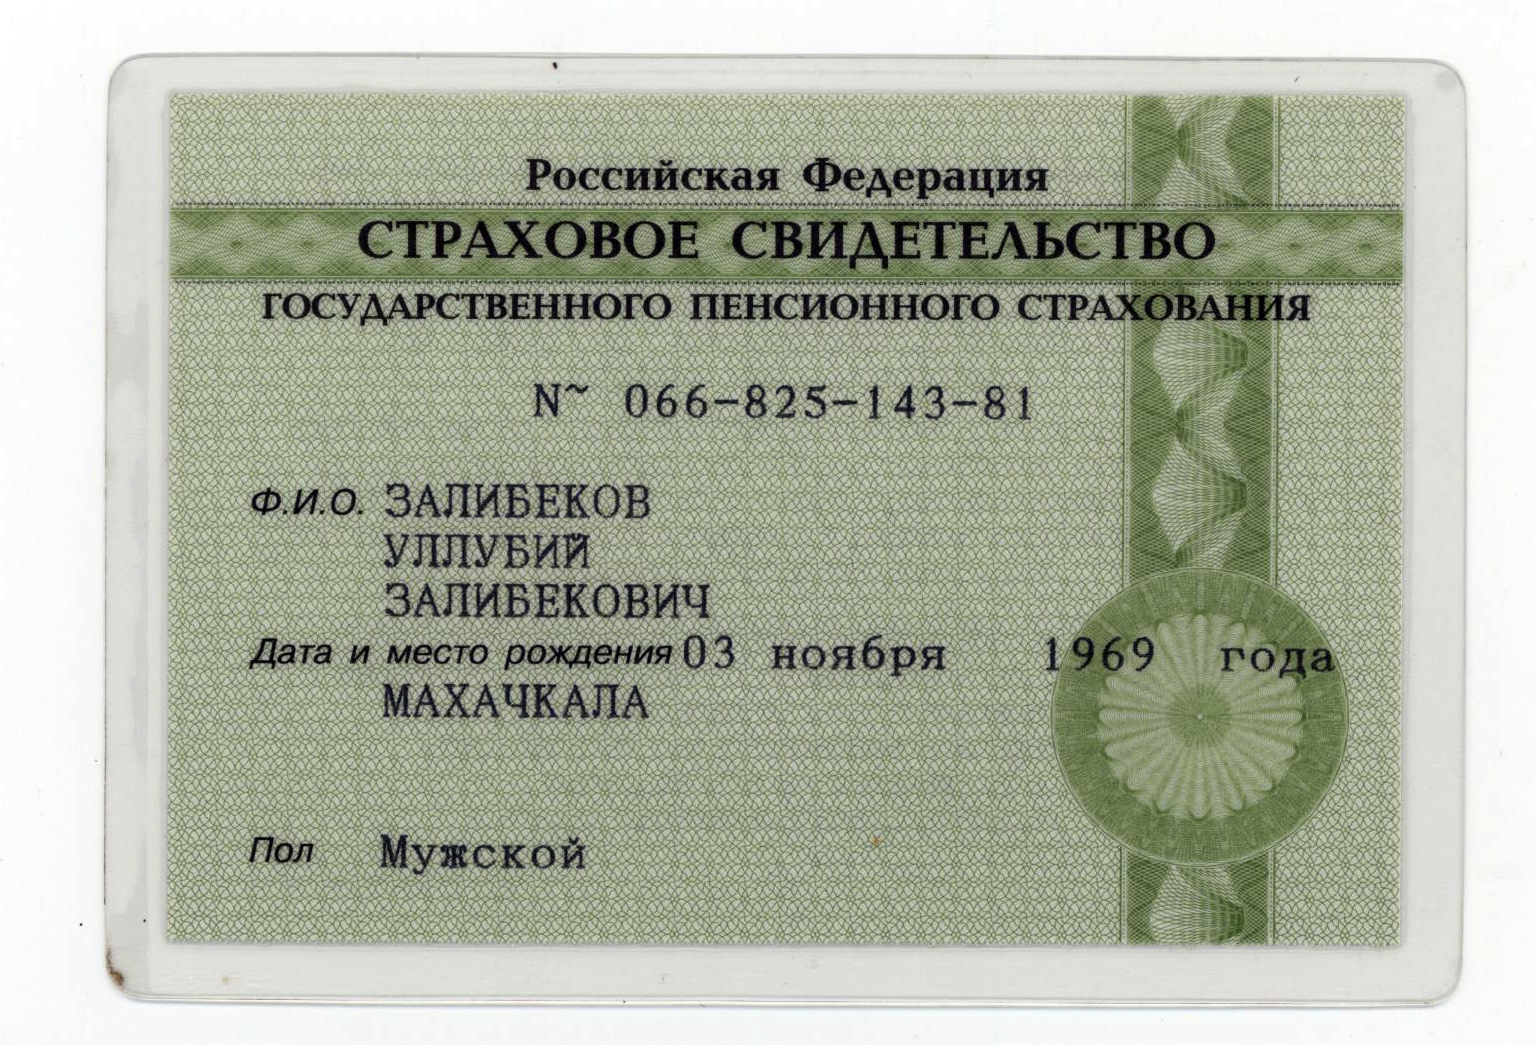text: (682, 629, 1341, 683), (606, 371, 1041, 428), (380, 576, 722, 626), (370, 674, 671, 730), (369, 822, 603, 884), (383, 476, 660, 522), (370, 525, 613, 575)
